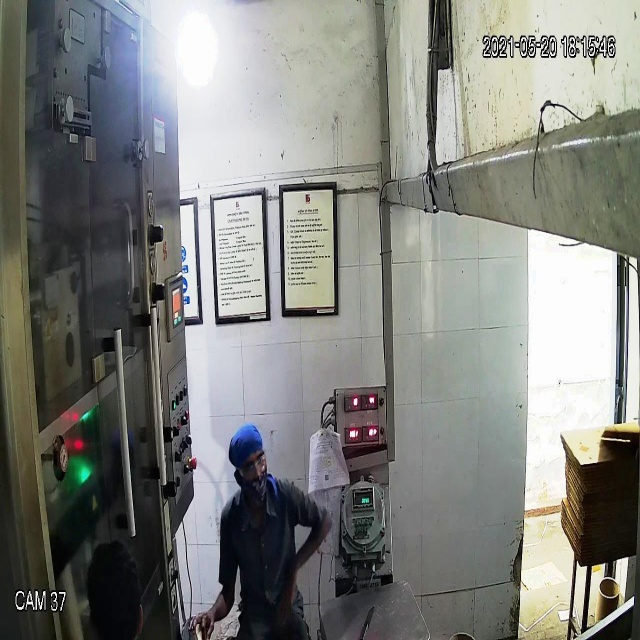Gafas: (232, 450, 266, 482)
